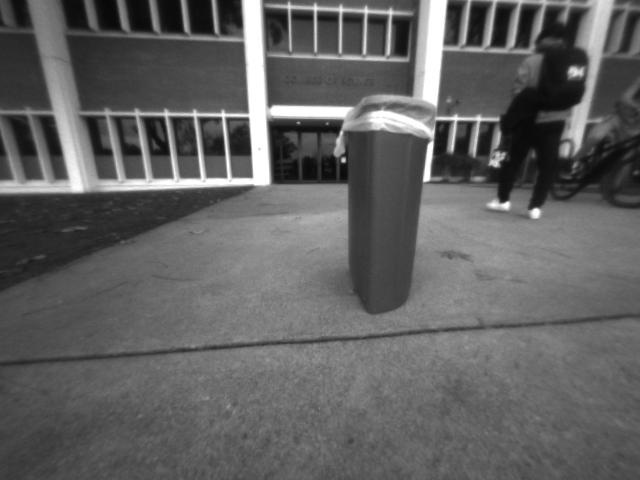trashcan: (334, 90, 441, 330)
